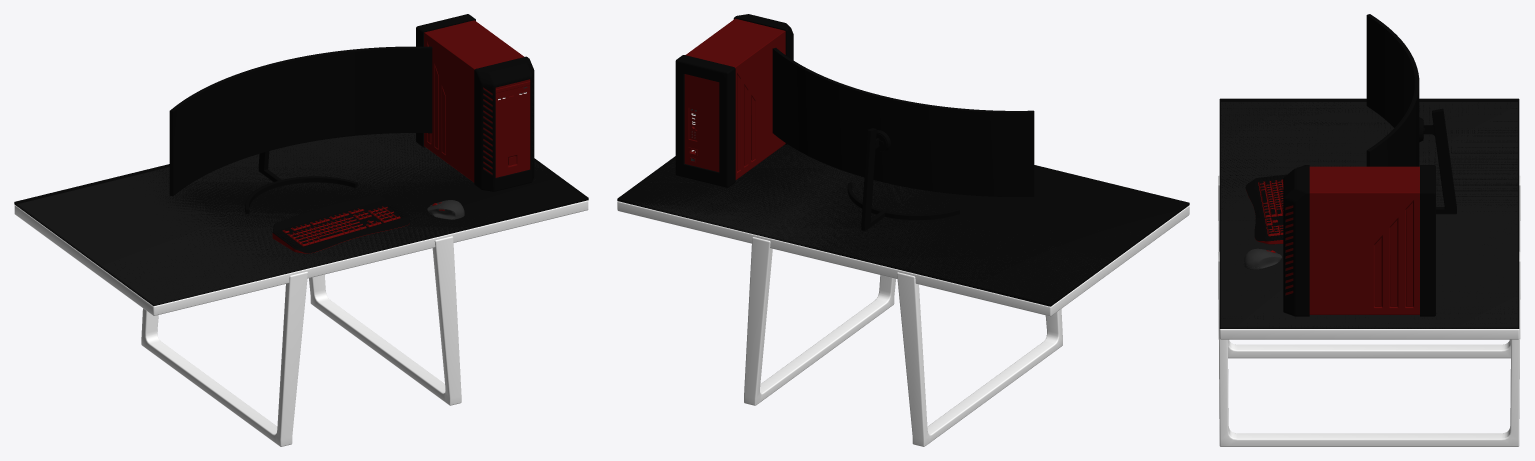
The model's file is gamingPc.glb.
3 renders of one model, left to right at view 1: azimuth 30°, elevation 25°; view 2: azimuth 150°, elevation 25°; view 3: azimuth 270°, elevation 25°, orthographic. The views are drawn at different scales.
Parts seen in each view (by area): view 1: Object_2, Object_6, Object_4, Object_17, Object_3, Object_9, Object_5, Object_13, Object_15, Object_19, Object_8; view 2: Object_2, Object_5, Object_4, Object_17, Object_3, Object_9; view 3: Object_2, Object_17, Object_4, Object_9, Object_5, Object_6, Object_3, Object_13, Object_15, Object_19, Object_8.
Part boxes in pixels (box(x1,y1,x2,y2)): Object_2: box(14, 133, 588, 305); Object_6: box(173, 49, 430, 194); Object_4: box(141, 236, 461, 446); Object_17: box(424, 20, 530, 182); Object_3: box(14, 200, 588, 315); Object_9: box(416, 14, 534, 191); Object_5: box(169, 46, 432, 213); Object_13: box(272, 194, 409, 253); Object_15: box(272, 206, 409, 253); Object_19: box(277, 204, 406, 247); Object_8: box(427, 200, 464, 219); Object_2: box(617, 144, 1189, 306); Object_5: box(772, 48, 1034, 230); Object_4: box(744, 237, 1062, 446); Object_17: box(684, 18, 785, 179); Object_3: box(617, 201, 1189, 316); Object_9: box(675, 14, 793, 187); Object_2: box(1219, 98, 1519, 328); Object_17: box(1285, 166, 1419, 314); Object_4: box(1218, 175, 1520, 446); Object_9: box(1283, 165, 1435, 316); Object_5: box(1366, 14, 1456, 213); Object_6: box(1367, 16, 1414, 127); Object_3: box(1219, 329, 1519, 339); Object_13: box(1245, 174, 1286, 241); Object_15: box(1246, 179, 1283, 244); Object_19: box(1259, 175, 1285, 239); Object_8: box(1243, 248, 1281, 269).
Bounding box in the file's own units: 1.8 × 1.17 × 1.01.
